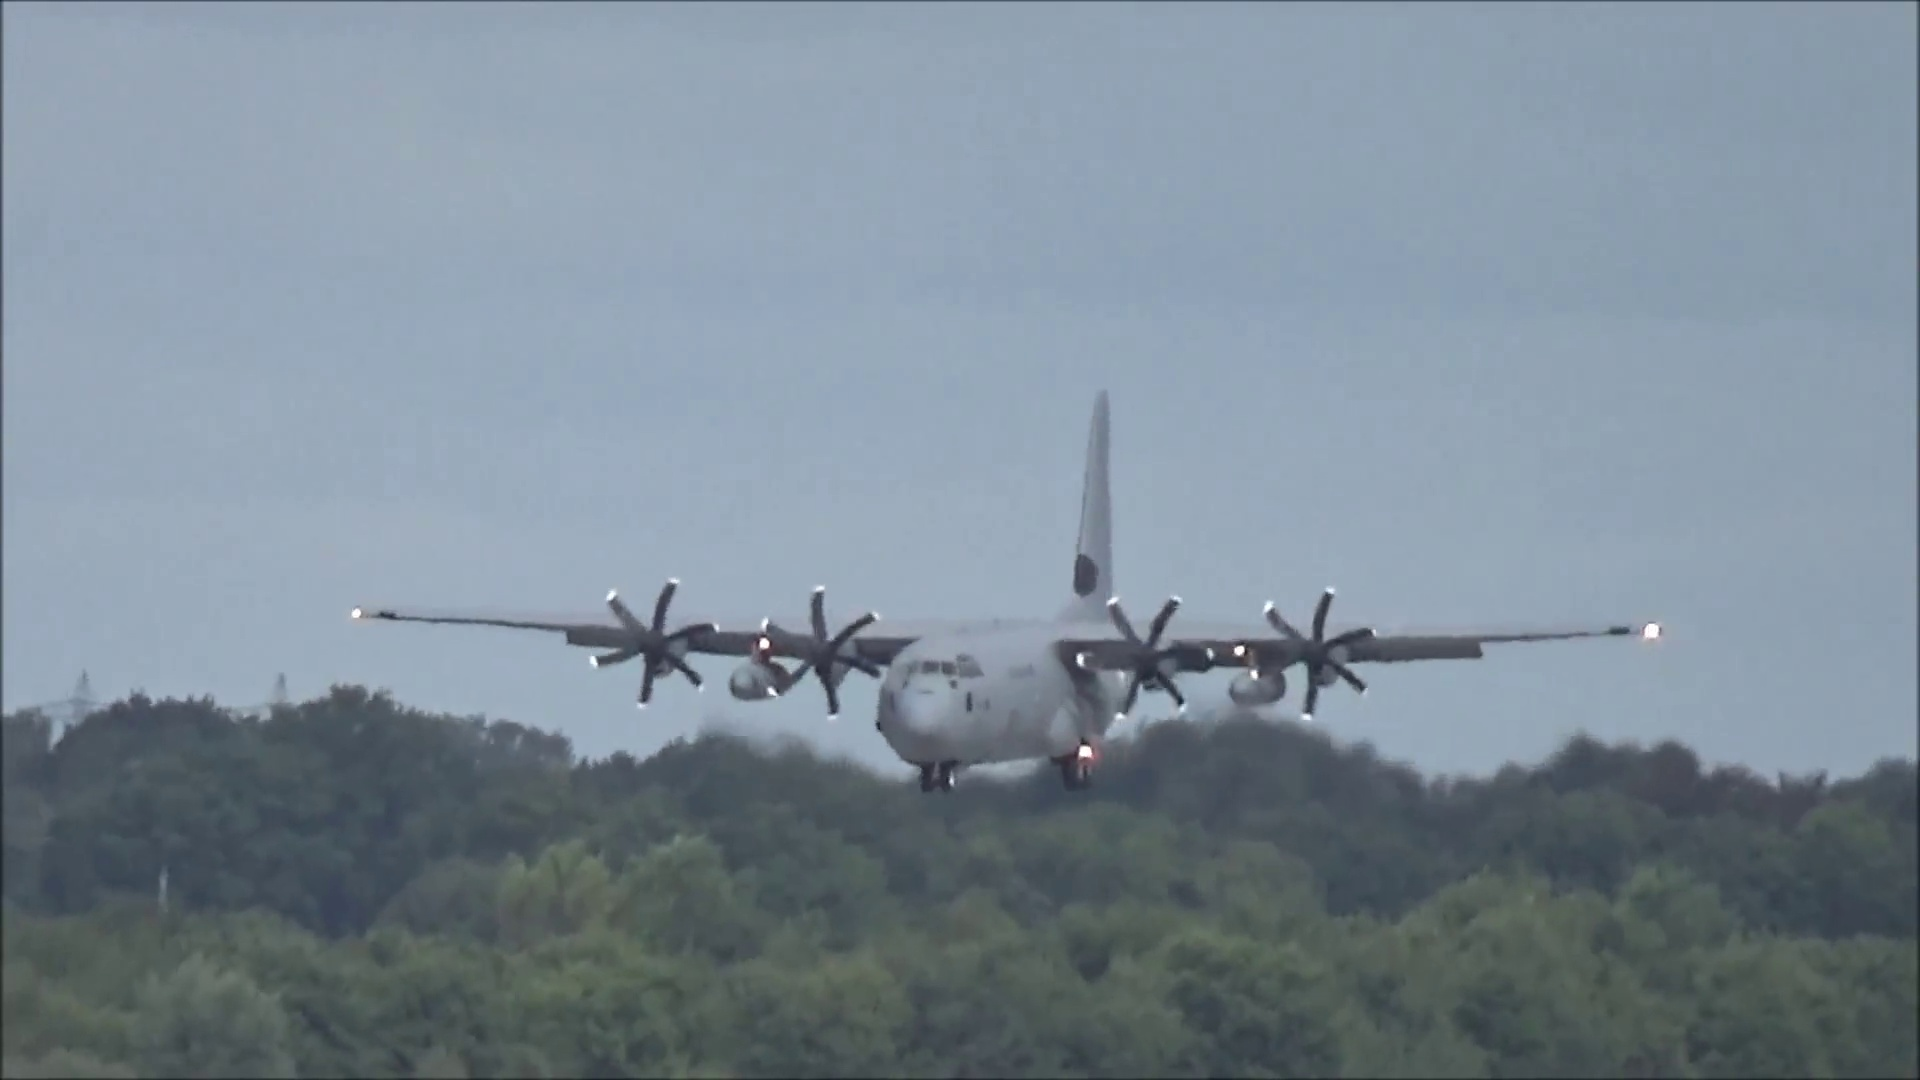Airplane: (369, 388, 1676, 785)
